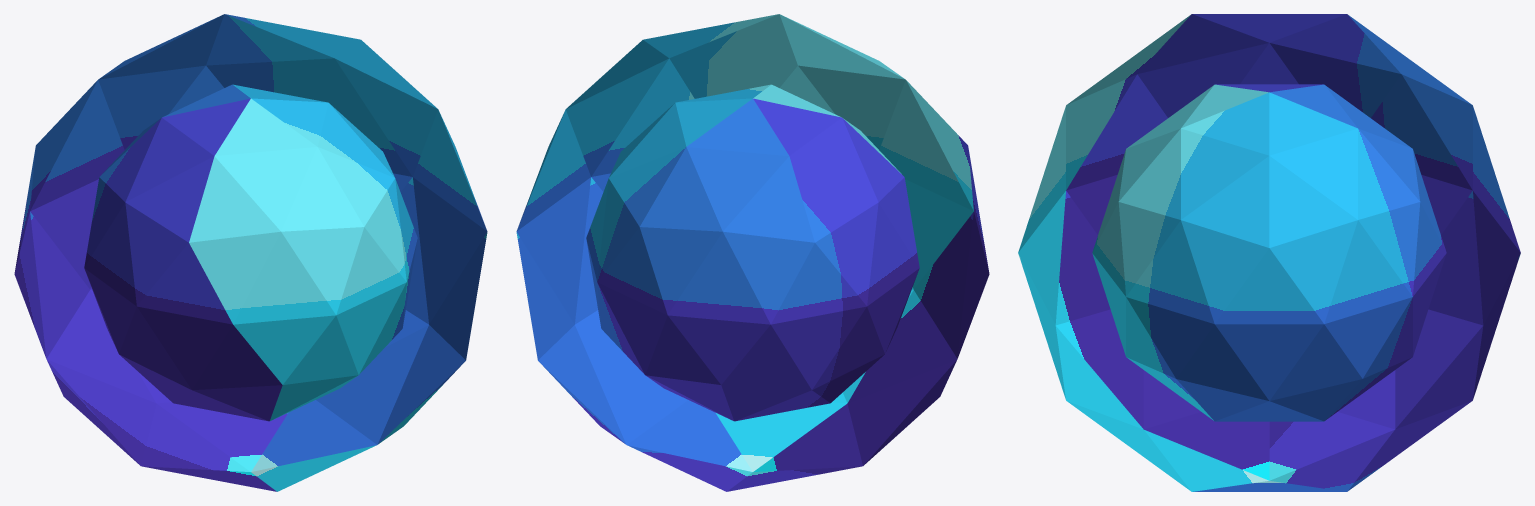
The model's file is projectile_pulse.glb.
3 views of the same model, side by side, from view 1: azimuth 30°, elevation 25°; view 2: azimuth 150°, elevation 25°; view 3: azimuth 270°, elevation 25° (orthographic). The views are drawn at different scales.
Parts seen in each view (by area): view 1: Icosphere; view 2: Icosphere; view 3: Icosphere.
Boxes of the visible parts, box(x1,y1,x2,y2) form: Icosphere: box(14, 14, 487, 491); Icosphere: box(516, 14, 989, 491); Icosphere: box(1018, 14, 1520, 491).
Size of the model in its own units: 0.2698 by 0.2837 by 0.2837.
Materials: 1 (1 with a texture image).
